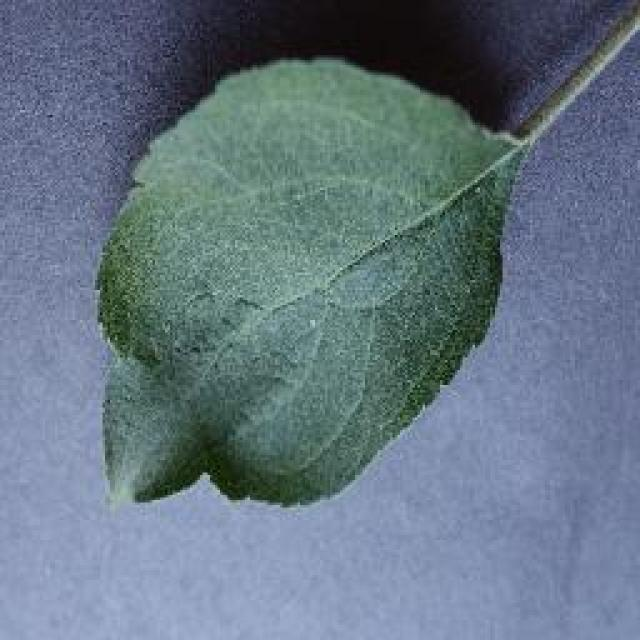apple healthy: (92, 50, 530, 508)
